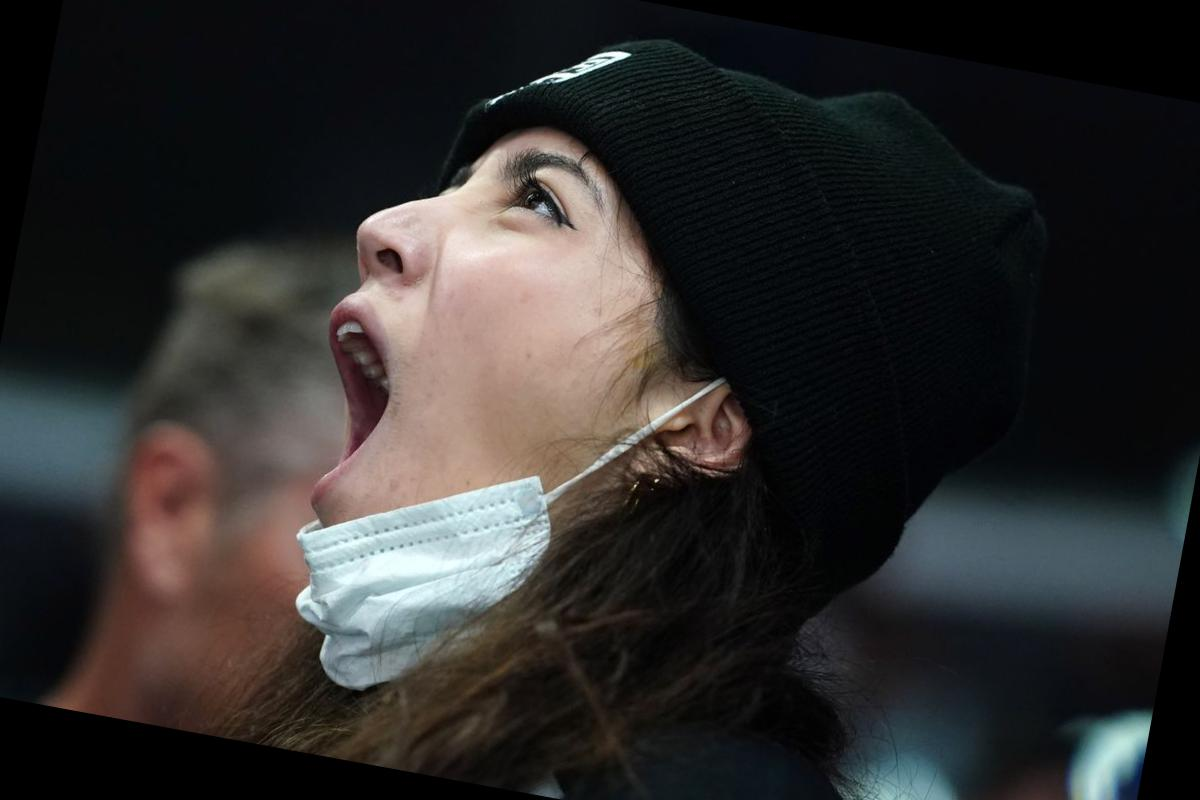mask_weared_incorrect: (215, 129, 679, 669)
